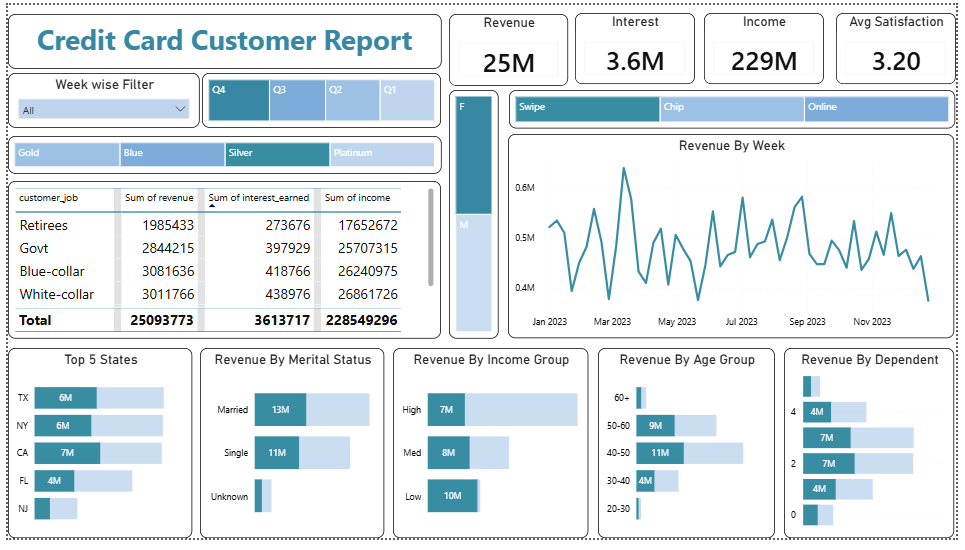

The page's visual inventory and layout, read from the dashboard file:
{"tool":"powerbi","page":{"name":"CC_Customers","canvas":[1280,720],"ordinal":2},"visuals":[{"type":"textbox","box":[0,11.6,585.5,73.9],"z":0},{"type":"tableEx","fields":{"Values":["public cc_customers.customer_job","Sum(public cc_details.revenue)","Sum(public cc_details.interest_earned)","Sum(public cc_customers.income)"]},"box":[0,237.3,585.1,213.4],"z":1000},{"type":"cardVisual","title":"Revenue","fields":{"Data":["Sum(public cc_details.revenue)"]},"box":[595.7,11.6,160.9,97.1],"z":2000},{"type":"cardVisual","title":"Interest","fields":{"Data":["Sum(public cc_details.interest_earned)"]},"box":[766.8,11.3,161.6,96.4],"z":3000},{"type":"cardVisual","title":"Income","fields":{"Data":["Sum(public cc_customers.income)"]},"box":[941.1,11.3,161.6,96.4],"z":4000},{"type":"cardVisual","title":"Avg Satisfaction","fields":{"Data":["Avg(public cc_customers.cust_satisfaction_score)"]},"box":[1118.3,11.3,161.6,96.4],"z":5000},{"type":"slicer","title":"Week wise Filter","fields":{"Values":["public cc_details.week_start_date"]},"box":[0,91.3,259.4,73.9],"z":6000},{"type":"treemap","fields":{"Group":["public cc_details.qtr"],"Values":["Avg(public cc_details.client_num)"]},"box":[262.3,91.3,323.2,73.9],"z":7000},{"type":"treemap","fields":{"Values":["Avg(public cc_details.client_num)"],"Group":["public cc_customers.gender"]},"box":[595.5,114.9,67.2,335.8],"z":8000},{"type":"treemap","fields":{"Values":["Avg(public cc_details.client_num)"],"Group":["public cc_details.card_category"]},"box":[0,176.8,585.5,50.7],"z":9000},{"type":"treemap","fields":{"Values":["Avg(public cc_details.client_num)"],"Group":["public cc_details.use_chip"]},"box":[677.6,114.9,603,52.2],"z":10000},{"type":"barChart","title":"Revenue By Income Group","fields":{"Y":["Sum(public cc_details.revenue)"],"Category":["public cc_customers.income_group"],"Series":["public cc_customers.gender"]},"box":[520.3,463.8,263.8,256.5],"z":11000},{"type":"lineChart","title":"Revenue By Week","fields":{"Y":["Sum(public cc_details.revenue)"],"Series":["public cc_customers.gender"],"Category":["public cc_details.week_start_date.Variation.Date Hierarchy.Year","public cc_details.week_start_date.Variation.Date Hierarchy.Month","public cc_details.week_start_date.Variation.Date Hierarchy.Day"]},"box":[676.1,174.6,603,276.1],"z":12000},{"type":"barChart","title":"Revenue By Age Group","fields":{"Y":["Sum(public cc_details.revenue)"],"Category":["public cc_customers.age_group"],"Series":["public cc_customers.gender"]},"box":[797.1,463.8,239.1,256.5],"z":13000},{"type":"barChart","title":"Top 5 States ","fields":{"Y":["Sum(public cc_details.revenue)"],"Category":["public cc_customers.state_cd"],"Series":["public cc_customers.gender"]},"box":[0,463.8,249.3,256.5],"z":14000},{"type":"barChart","title":"Revenue By Dependent","fields":{"Y":["Sum(public cc_details.revenue)"],"Category":["public cc_customers.dependent_count"],"Series":["public cc_customers.gender"]},"box":[1049.3,463.8,230.4,256.5],"z":15000},{"type":"barChart","title":"Revenue By Merital Status ","fields":{"Y":["Sum(public cc_details.revenue)"],"Category":["public cc_customers.marital_status"],"Series":["public cc_customers.gender"]},"box":[259.4,463.8,249.3,256.5],"z":16000}]}

Visuals, with their boxes in screenshot pixels (x1, y1, x2, y2), scaled from the page's 1280x720 canvas onto the 965x550 screenshot:
textbox: box(0, 9, 441, 65)
tableEx - public cc_customers.customer_job x Sum(public cc_details.revenue): box(0, 181, 441, 344)
"Revenue" cardVisual: box(449, 9, 570, 83)
"Interest" cardVisual: box(578, 9, 700, 82)
"Income" cardVisual: box(710, 9, 831, 82)
"Avg Satisfaction" cardVisual: box(843, 9, 964, 82)
"Week wise Filter" slicer: box(0, 70, 196, 126)
treemap - public cc_details.qtr x Avg(public cc_details.client_num): box(198, 70, 441, 126)
treemap - Avg(public cc_details.client_num) x public cc_customers.gender: box(449, 88, 500, 344)
treemap - Avg(public cc_details.client_num) x public cc_details.card_category: box(0, 135, 441, 174)
treemap - Avg(public cc_details.client_num) x public cc_details.use_chip: box(511, 88, 964, 128)
"Revenue By Income Group" barChart: box(392, 354, 591, 549)
"Revenue By Week" lineChart: box(510, 133, 964, 344)
"Revenue By Age Group" barChart: box(601, 354, 781, 549)
"Top 5 States " barChart: box(0, 354, 188, 549)
"Revenue By Dependent" barChart: box(791, 354, 964, 549)
"Revenue By Merital Status " barChart: box(196, 354, 384, 549)
